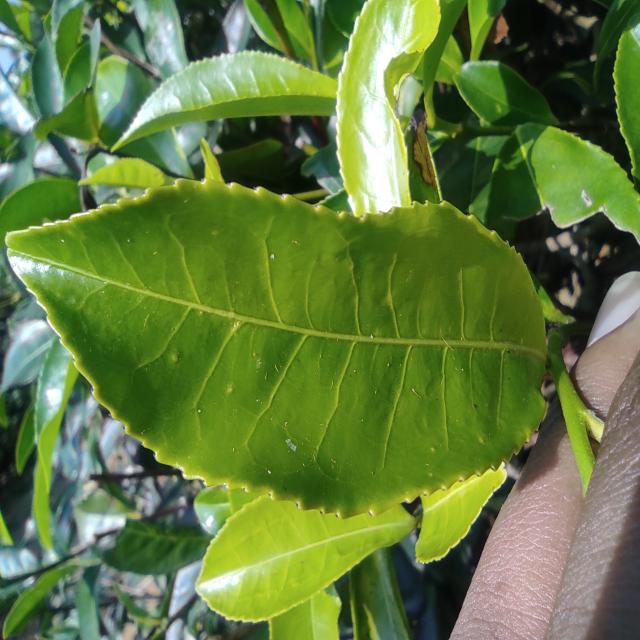Category C 4-7 days: (3, 167, 580, 525)
